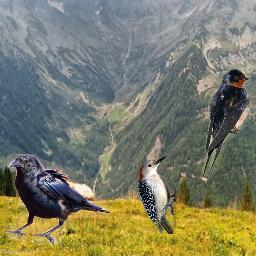Crow: (6, 154, 110, 245)
Swallow: (200, 67, 251, 177)
Woodpecker: (138, 156, 176, 234)
